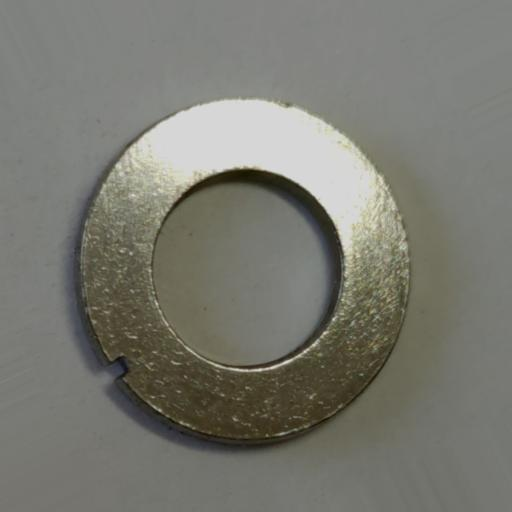burr: (107, 355, 129, 383)
